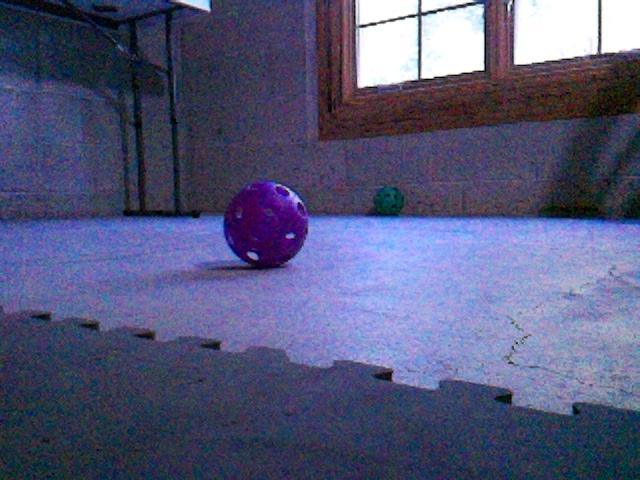Green: (373, 186, 403, 215)
Purple: (222, 181, 307, 267)
